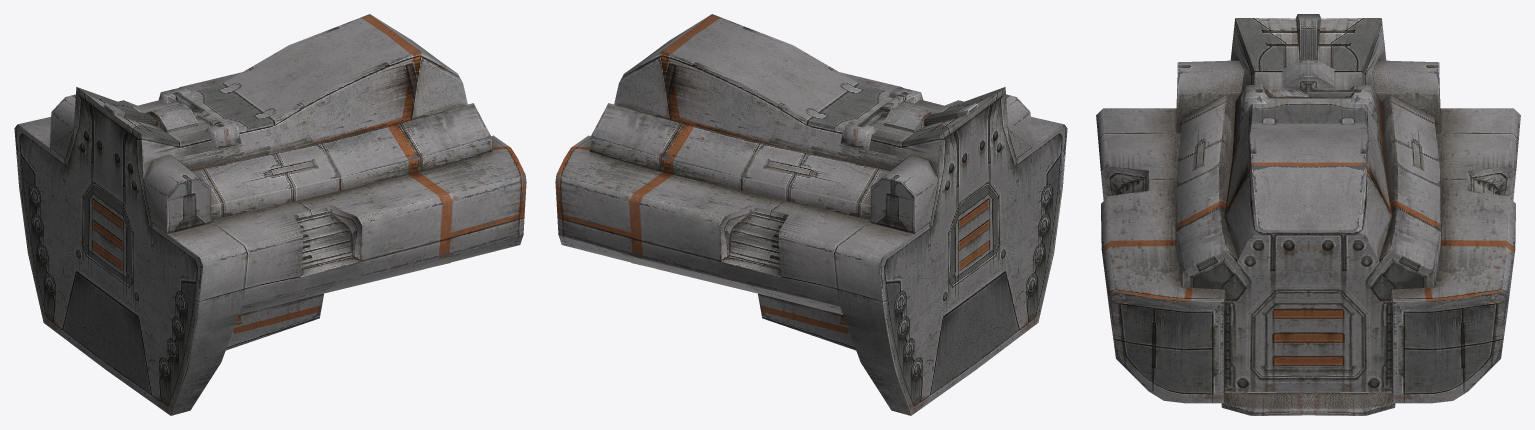
Rendered from Small_s01_p03.FBX.
3 renders of one model, left to right at view 1: azimuth 30°, elevation 25°; view 2: azimuth 150°, elevation 25°; view 3: azimuth 270°, elevation 25°, orthographic. The views are drawn at different scales.
Parts seen in each view (by area): view 1: Small_s01_p03; view 2: Small_s01_p03; view 3: Small_s01_p03.
Part boxes in pixels (box(x1,y1,x2,y2)): Small_s01_p03: box(14, 14, 526, 415); Small_s01_p03: box(555, 14, 1067, 415); Small_s01_p03: box(1096, 14, 1520, 415).
Size of the model in its own units: 14.7 by 10.74 by 13.71.
